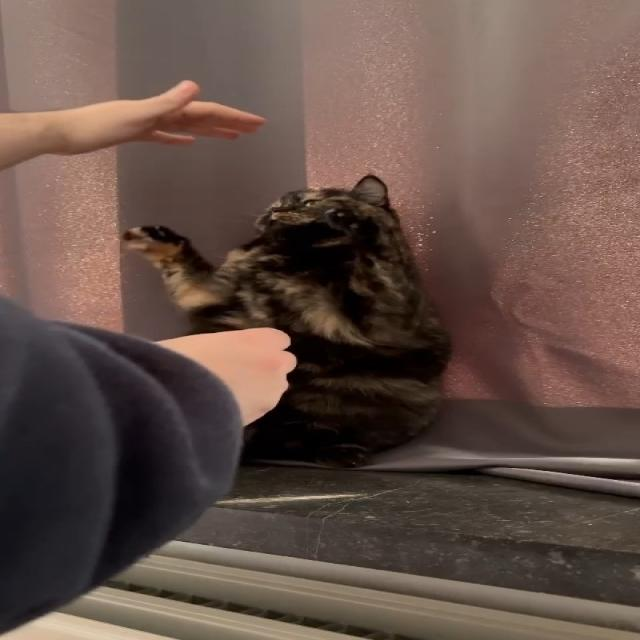authorized: (119, 173, 453, 469)
